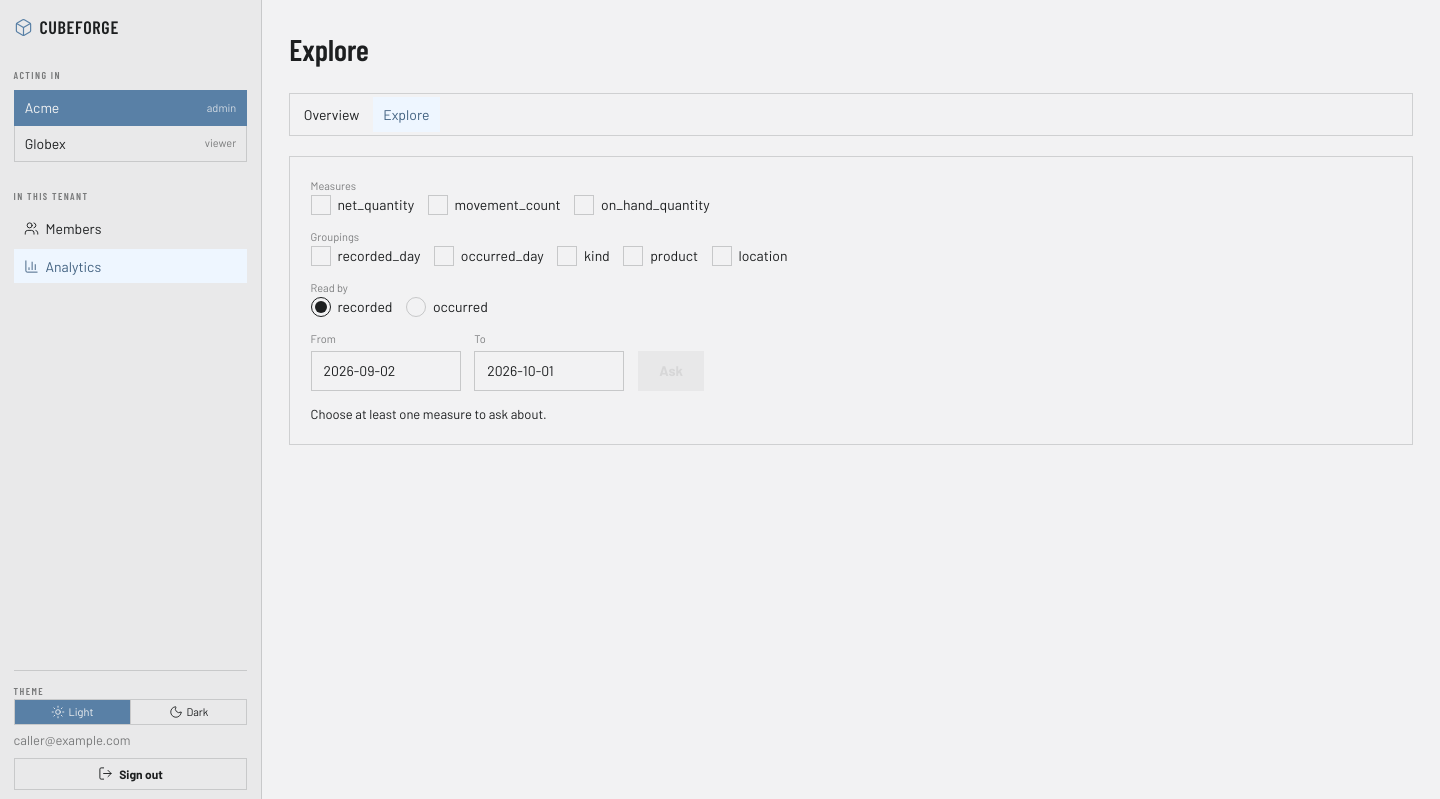
Test: composing a question in the explorer › writes the asked composition into the address, and asks it (3.8)
Expected: the element "Measures net_quantity movement_count on_hand_quantity" is shown, [311, 179, 710, 215]
Click the checkbox labelled "net_quantity" at {"x": 321, "y": 205}, box [311, 195, 331, 215]
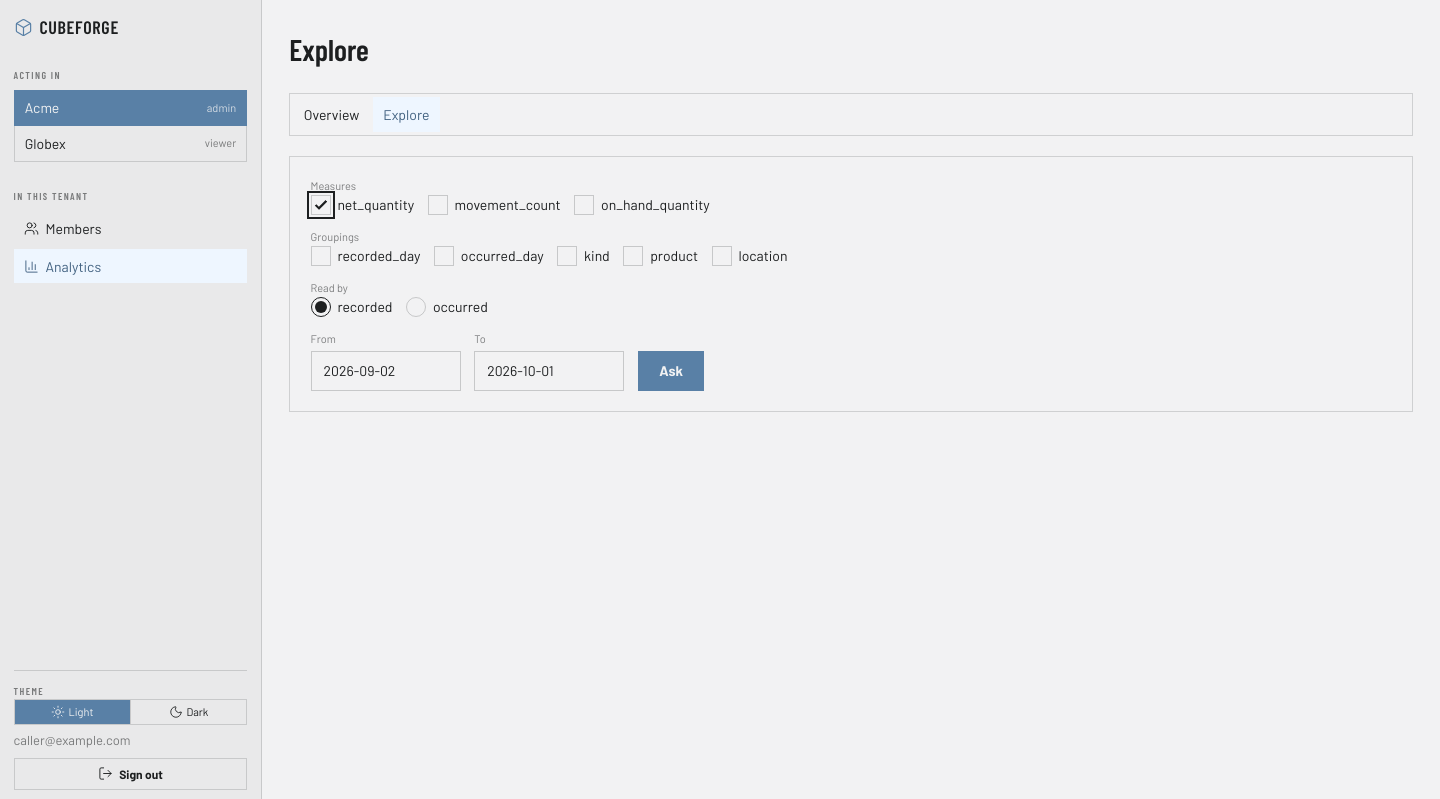
Click the checkbox labelled "kind" at {"x": 567, "y": 256}, box [557, 246, 577, 266]
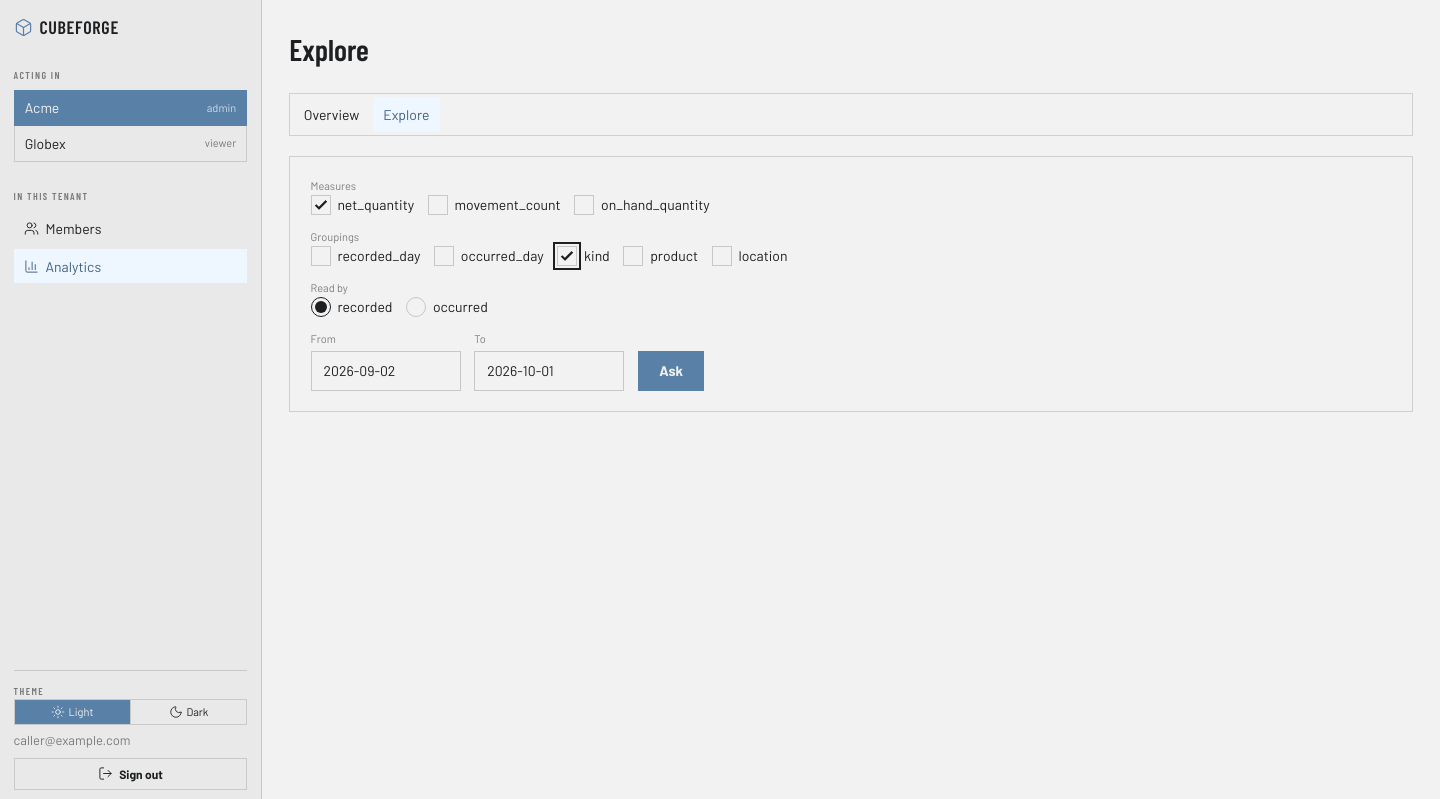
Click the button "Ask" at {"x": 671, "y": 371}, box [638, 351, 704, 391]
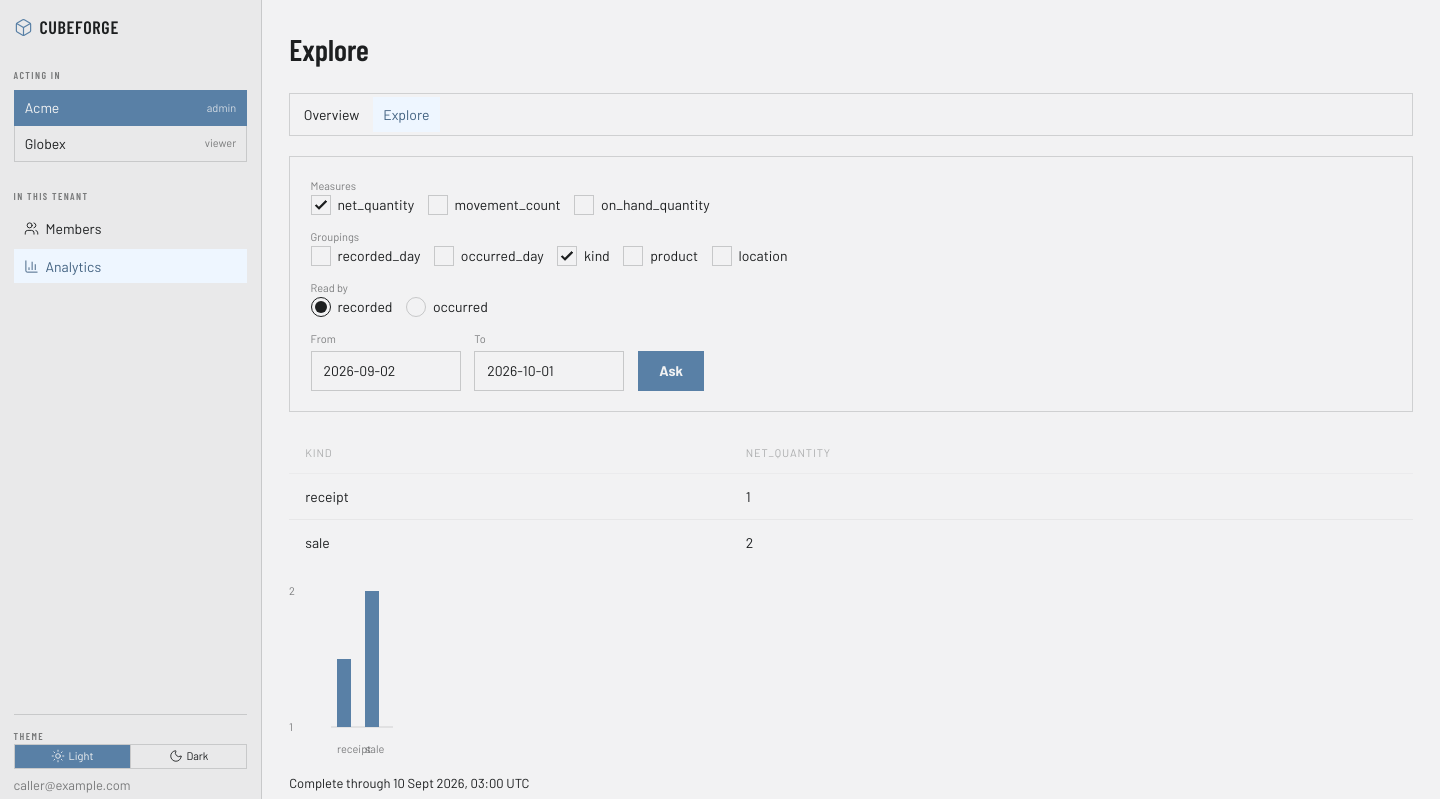
Now the table is shown, box [289, 433, 1413, 565]
